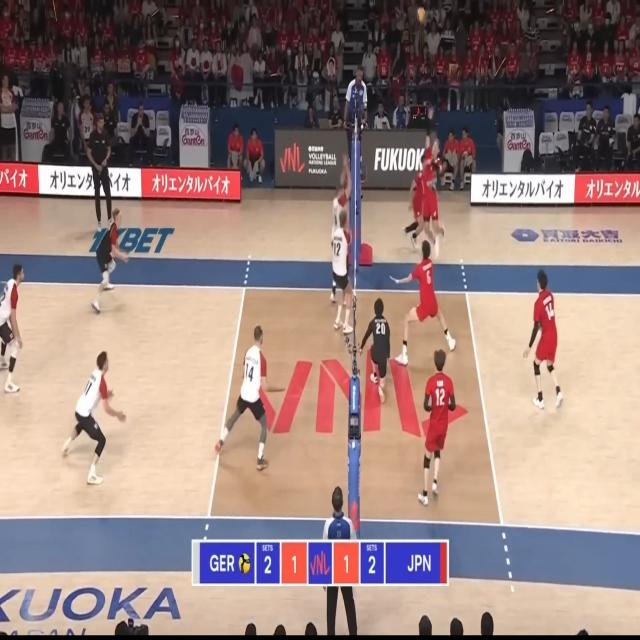ball: (417, 8, 425, 22)
